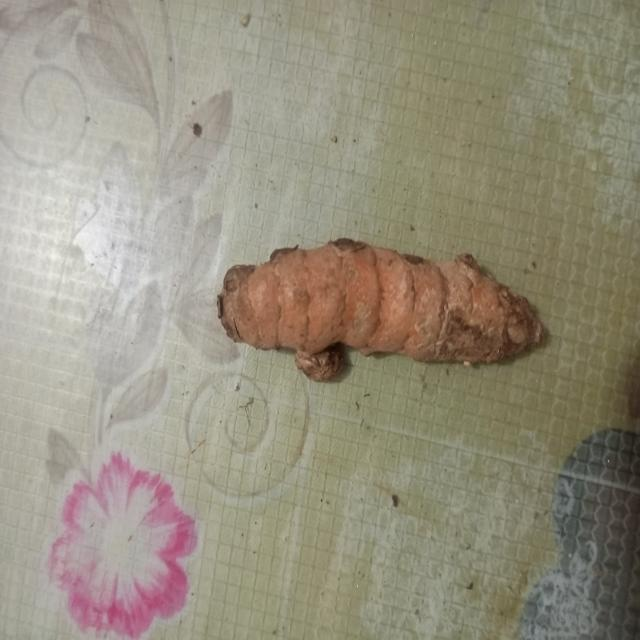ginger: (218, 236, 542, 378)
